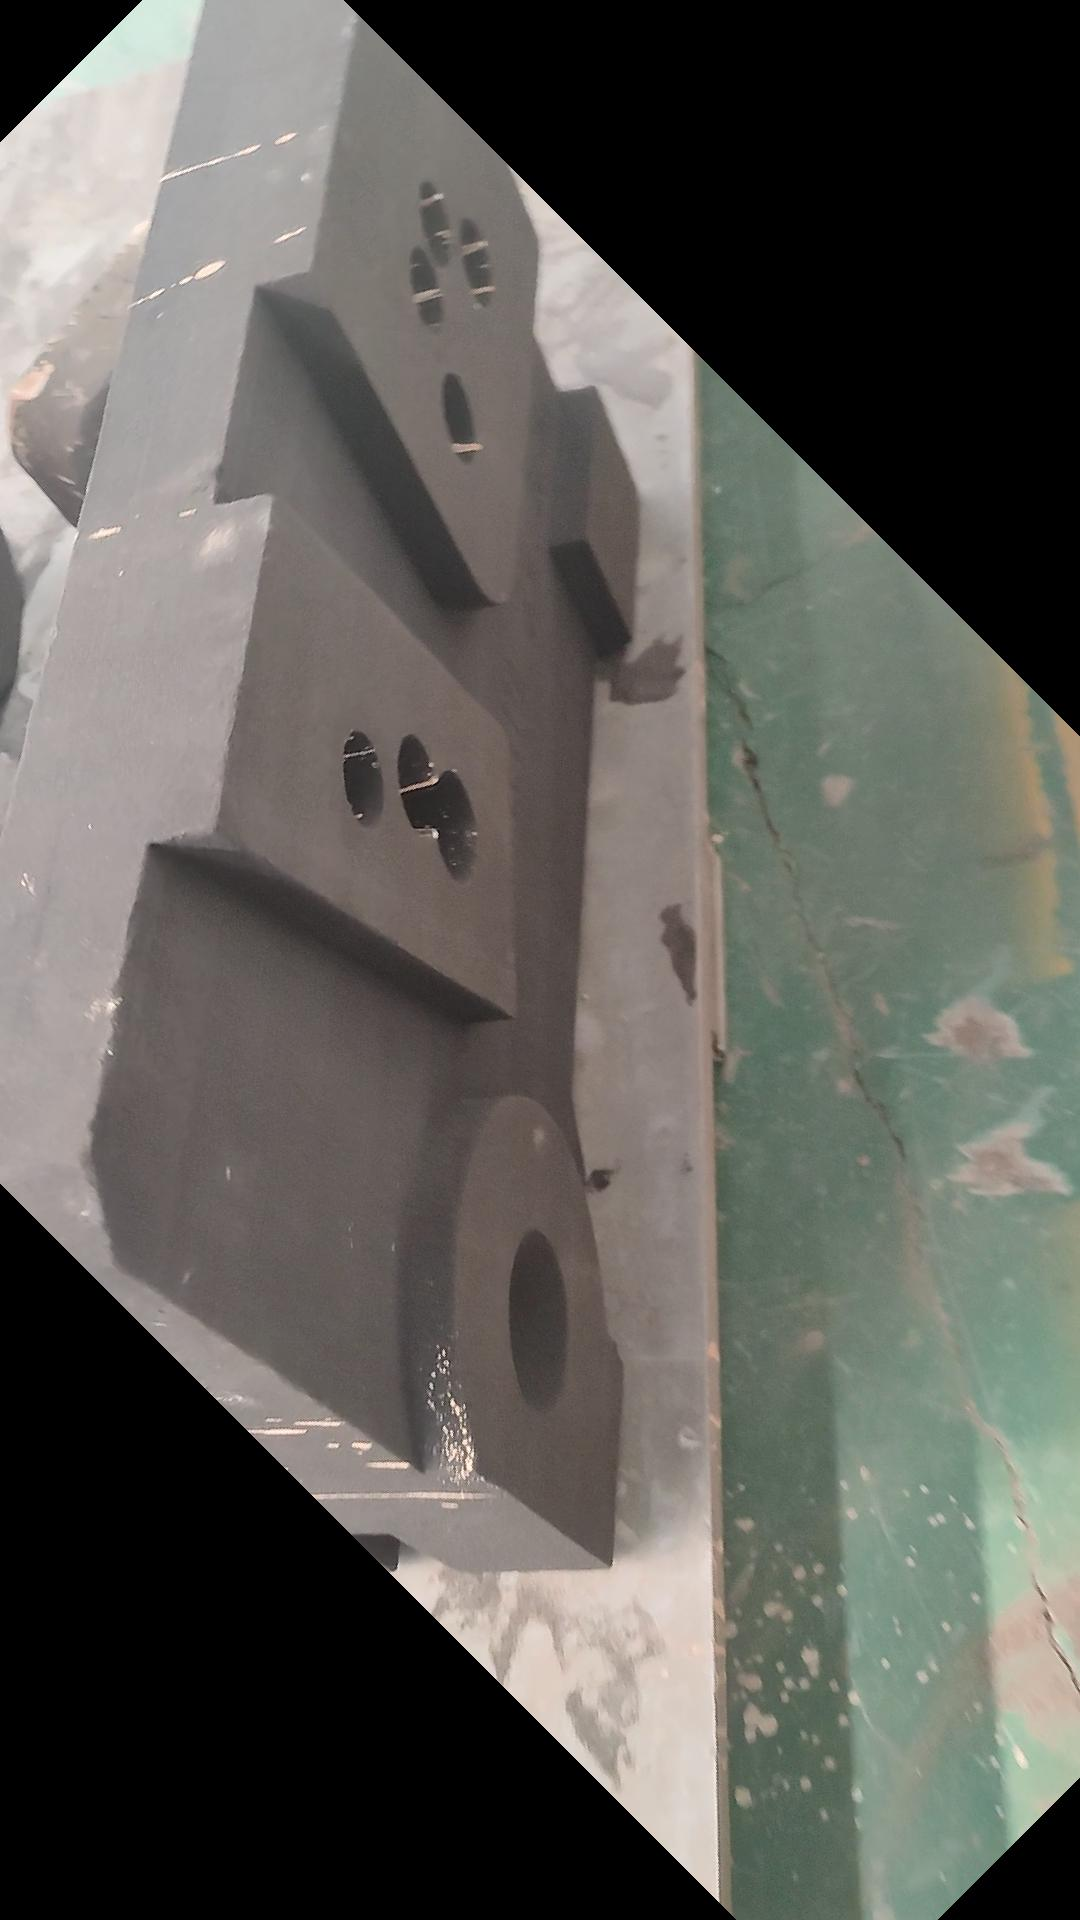pouring hole: (508, 1230, 570, 1414)
